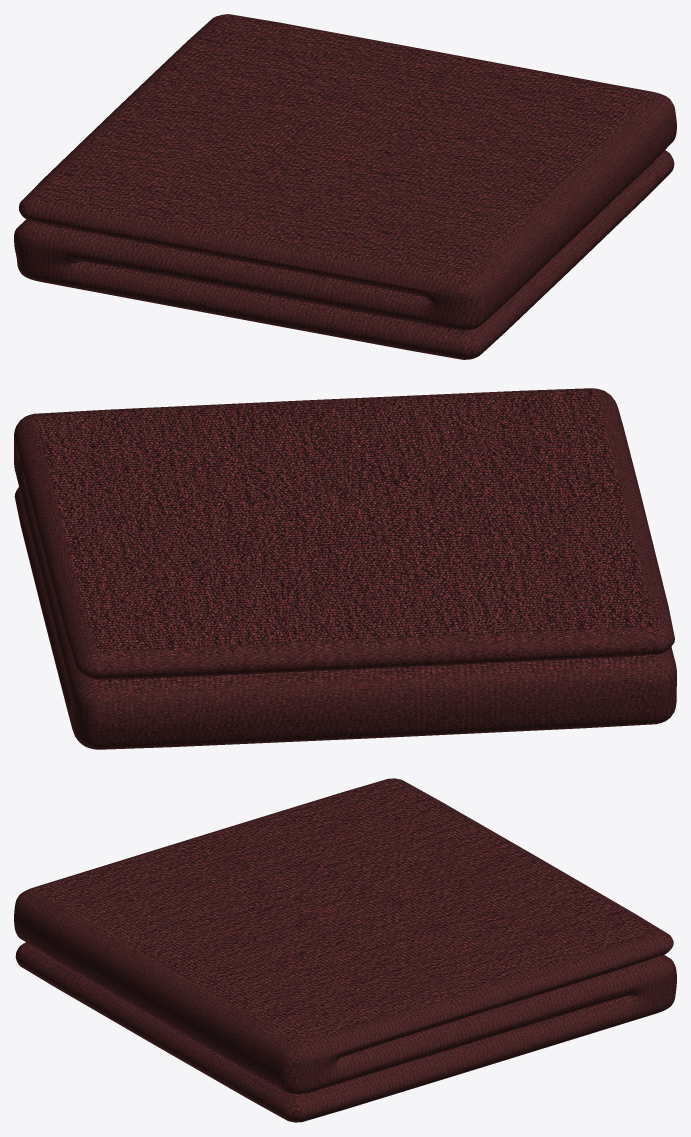
File: sweater1.fbx
3 renders of one model, top to bottom at view 1: azimuth 30°, elevation 25°; view 2: azimuth 150°, elevation 25°; view 3: azimuth 270°, elevation 25°, orthographic. The views are drawn at different scales.
Parts seen in each view (by area): view 1: pCube70; view 2: pCube70; view 3: pCube70.
Boxes of the visible parts, x1,y1,x2,y2 form: pCube70: [14, 14, 676, 359]; pCube70: [14, 388, 676, 749]; pCube70: [14, 778, 676, 1122].
Size of the model in its own units: 0.0136 by 0.00186 by 0.0136.
Materials: 1 (1 with a texture image).
